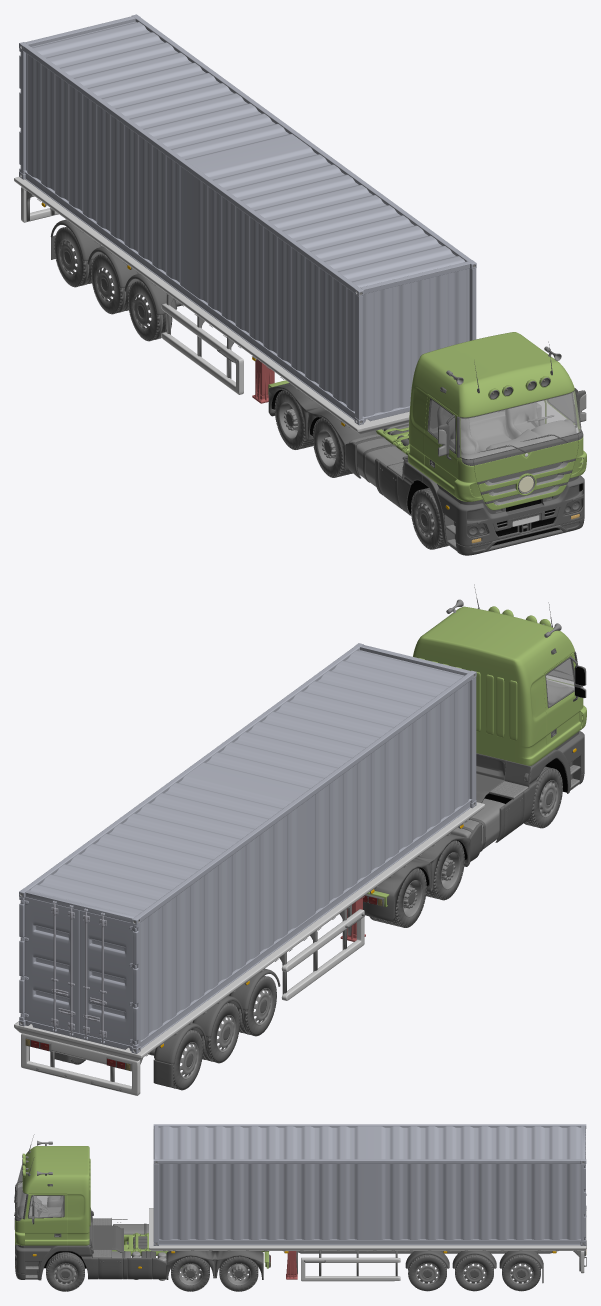
The model's file is Main_truck_updated_compressed.glb.
3 views of the same model, one above another, from view 1: azimuth 30°, elevation 25°; view 2: azimuth 150°, elevation 25°; view 3: azimuth 270°, elevation 25° (orthographic). The views are drawn at different scales.
Parts seen in each view (by area): view 1: Container_trailer, Truck, Cab_Glass, axle004_wheel_Both_Left_Right, axle006_wheel_Both_Left_Right, axle005_wheel_Both_Left_Right, axle001_Front_wheel_Right, axle003_wheel_Both_Left_Right, axle002_wheel_Both_Left_Right, Fuel_tank, Container_back_door; view 2: Container_trailer, Truck, Container_back_door, axle001_Front_wheel_Right, axle004_wheel_Both_Left_Right, axle005_wheel_Both_Left_Right, axle006_wheel_Both_Left_Right, axle003_wheel_Both_Left_Right, axle002_wheel_Both_Left_Right, Fuel_tank, Cab_Glass; view 3: Container_trailer, Truck, Cab_door, axle001_Front_wheel_Left, axle006_wheel_Both_Left_Right, axle005_wheel_Both_Left_Right, axle004_wheel_Both_Left_Right, axle003_wheel_Both_Left_Right, axle002_wheel_Both_Left_Right, Cab_door_glass, Cab_Glass, Fuel_tank.
Boxes of the visible parts, box(x1,y1,x2,y2) form: Container_trailer: box(14, 14, 476, 434); Truck: box(268, 332, 586, 555); Cab_Glass: box(428, 390, 581, 459); axle004_wheel_Both_Left_Right: box(128, 280, 182, 341); axle006_wheel_Both_Left_Right: box(54, 226, 102, 287); axle005_wheel_Both_Left_Right: box(91, 253, 139, 314); axle001_Front_wheel_Right: box(411, 488, 448, 549); axle003_wheel_Both_Left_Right: box(274, 390, 313, 449); axle002_wheel_Both_Left_Right: box(312, 418, 383, 477); Fuel_tank: box(349, 434, 407, 486); Container_back_door: box(20, 16, 135, 168); Container_trailer: box(14, 643, 484, 1095); Truck: box(363, 584, 586, 921); Container_back_door: box(20, 890, 137, 1051); axle001_Front_wheel_Right: box(524, 766, 562, 828); axle004_wheel_Both_Left_Right: box(228, 975, 276, 1036); axle005_wheel_Both_Left_Right: box(191, 1002, 239, 1063); axle006_wheel_Both_Left_Right: box(62, 1030, 203, 1090); axle003_wheel_Both_Left_Right: box(369, 868, 426, 927); axle002_wheel_Both_Left_Right: box(426, 840, 464, 900); Fuel_tank: box(449, 798, 504, 849); Cab_Glass: box(546, 658, 574, 706); Container_trailer: box(149, 1124, 586, 1283); Truck: box(14, 1134, 270, 1280); Cab_door: box(25, 1194, 67, 1245); axle001_Front_wheel_Left: box(46, 1252, 84, 1291); axle006_wheel_Both_Left_Right: box(502, 1254, 540, 1291); axle005_wheel_Both_Left_Right: box(455, 1254, 493, 1291); axle004_wheel_Both_Left_Right: box(408, 1254, 446, 1291); axle003_wheel_Both_Left_Right: box(219, 1256, 258, 1291); axle002_wheel_Both_Left_Right: box(171, 1256, 209, 1291); Cab_door_glass: box(29, 1196, 63, 1217); Cab_Glass: box(16, 1163, 26, 1218); Fuel_tank: box(113, 1224, 148, 1244).
Size of the model in its own units: 4.5 by 5.98 by 23.8.
